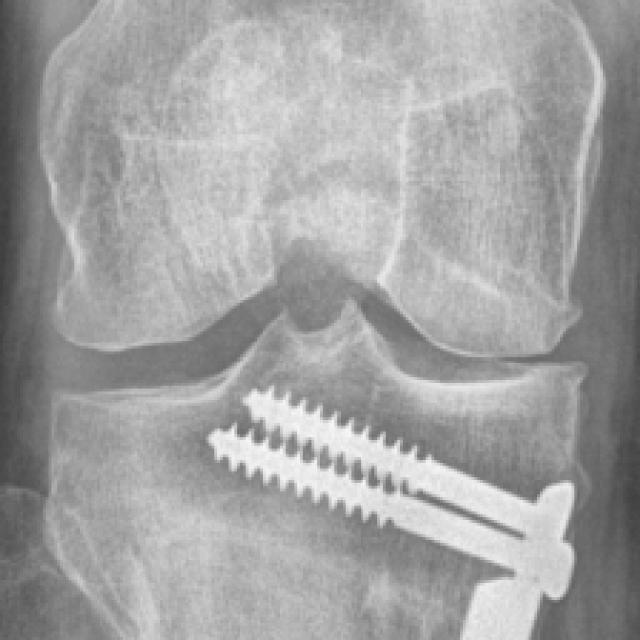femur: (38, 0, 605, 359)
tibia: (43, 300, 590, 640)
